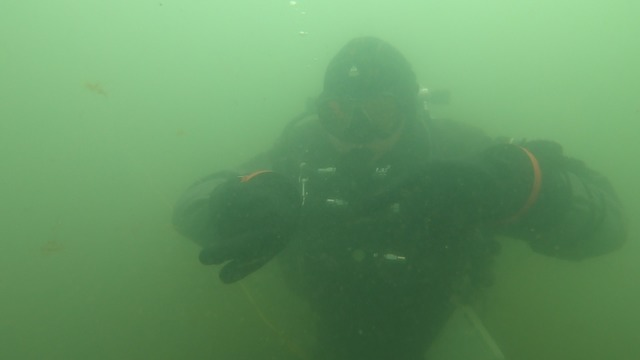Diver: (161, 40, 629, 357)
Hand: (383, 144, 525, 257), (201, 173, 316, 292)
Head: (319, 33, 421, 185)
